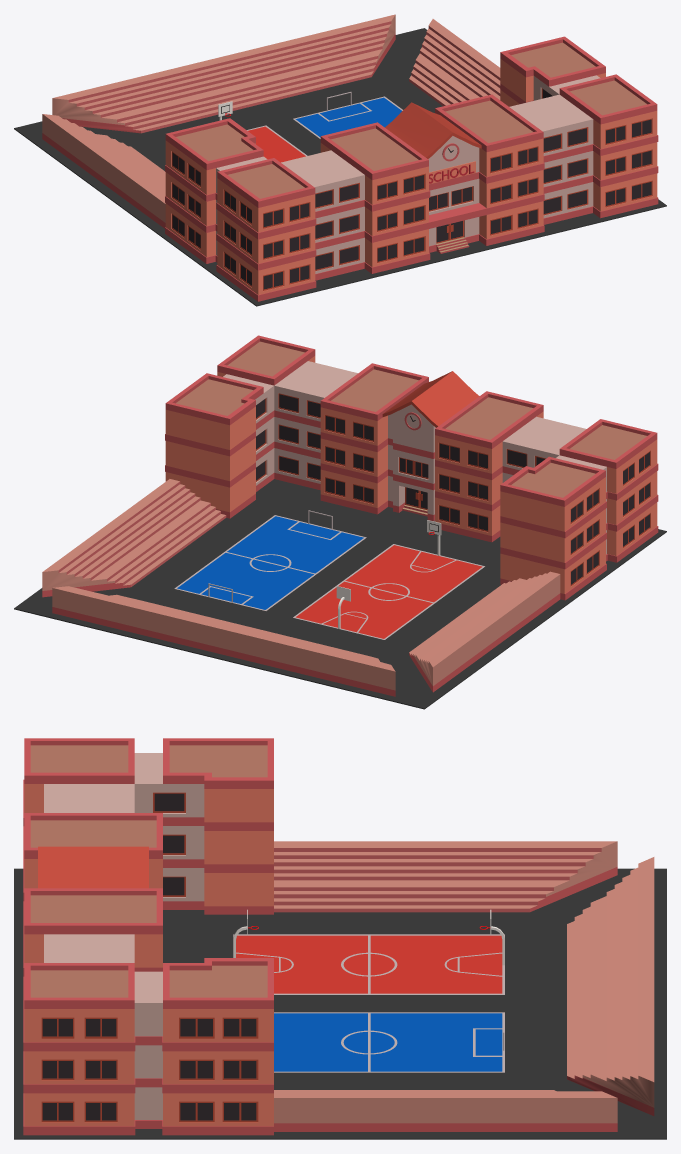
File: school_night.glb
The picture shows the model from 3 angles, top to bottom: view 1: azimuth 30°, elevation 25°; view 2: azimuth 150°, elevation 25°; view 3: azimuth 270°, elevation 25°; orthographic projection. The views are drawn at different scales.
Parts seen in each view (by area): view 1: PublicBuilding_School; view 2: PublicBuilding_School; view 3: PublicBuilding_School.
Boxes of the visible parts, box(x1,y1,x2,y2) form: PublicBuilding_School: box(14, 14, 666, 306); PublicBuilding_School: box(14, 335, 666, 709); PublicBuilding_School: box(14, 738, 666, 1139).
Bounding box in the file's own units: 4.64 × 1.27 × 4.75.
1 material, 1 textured.
